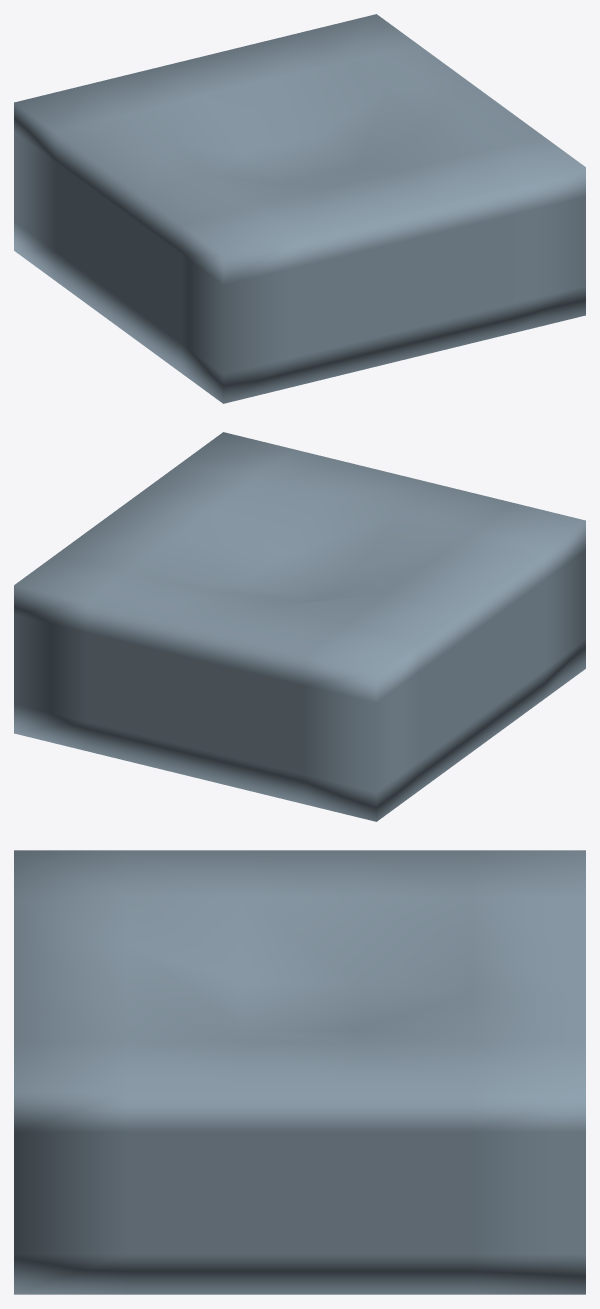
Rendered from qdqdq.fbx.
3 views of the same model, one above another, from view 1: azimuth 30°, elevation 25°; view 2: azimuth 150°, elevation 25°; view 3: azimuth 270°, elevation 25° (orthographic). The views are drawn at different scales.
Visible parts, largest first — view 1: pCube1; view 2: pCube1; view 3: pCube1.
Part boxes in pixels (box(x1,y1,x2,y2)): pCube1: box(14, 14, 585, 403); pCube1: box(14, 432, 585, 821); pCube1: box(14, 850, 585, 1294).
Size of the model in its own units: 836 by 329 by 836.
